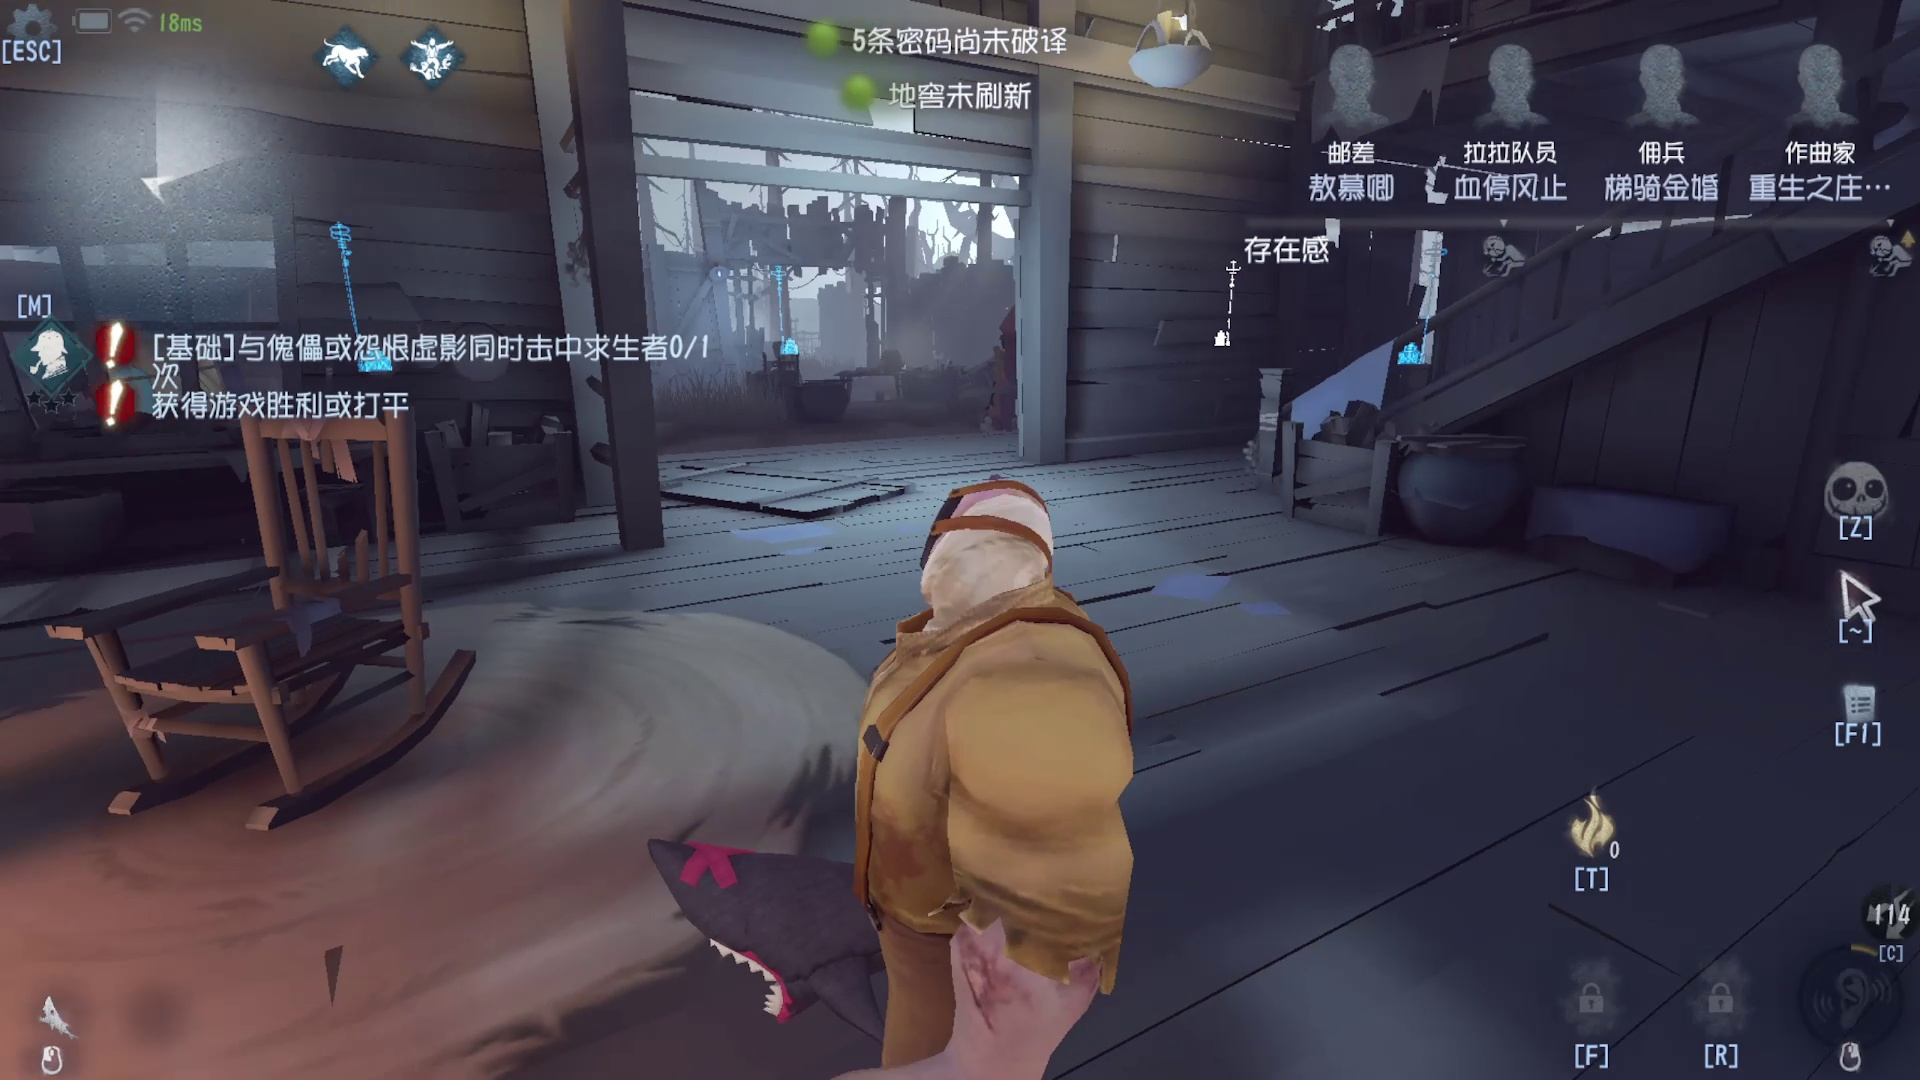密码机: (314, 211, 406, 400), (764, 253, 831, 382), (1398, 218, 1443, 371), (1209, 249, 1254, 357)
